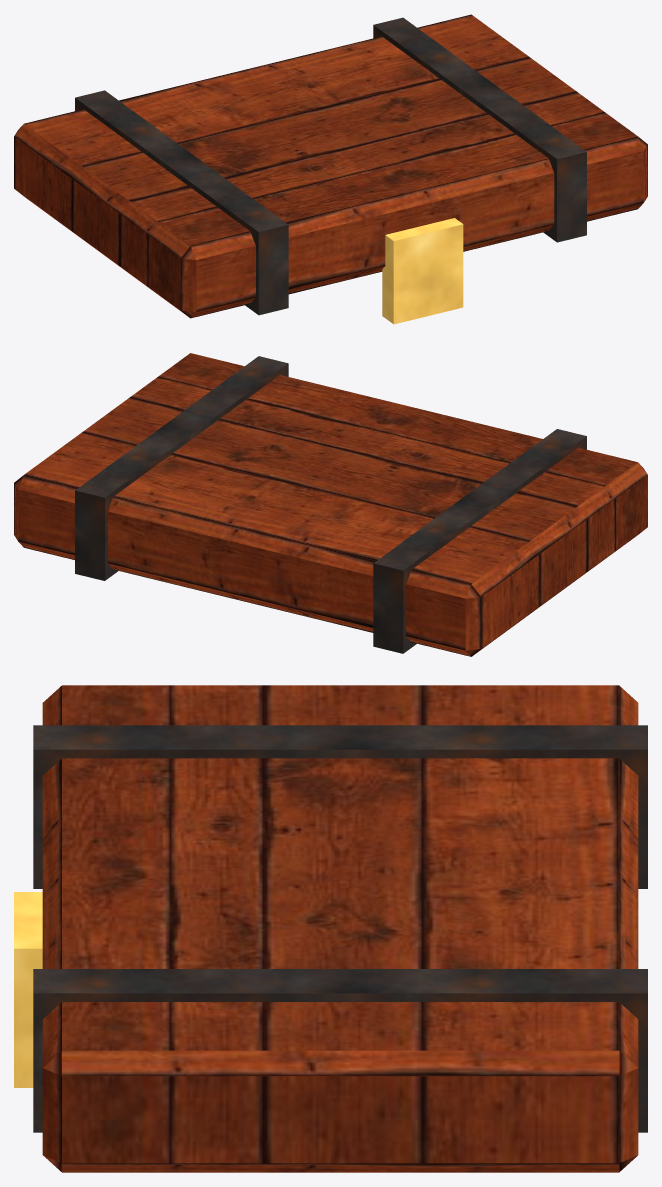
The model's file is sp_esc_lid.glb.
3 renders of one model, top to bottom at view 1: azimuth 30°, elevation 25°; view 2: azimuth 150°, elevation 25°; view 3: azimuth 270°, elevation 25°, orthographic. The views are drawn at different scales.
Visible parts, largest first — view 1: spire; view 2: spire; view 3: spire.
Part boxes in pixels (left/top/right/bottom): spire: left=14, top=14, right=647, bottom=324; spire: left=14, top=353, right=647, bottom=656; spire: left=14, top=685, right=647, bottom=1172.
Bounding box in the file's own units: 0.94 × 0.23 × 0.66.
3 materials, 3 textured.
